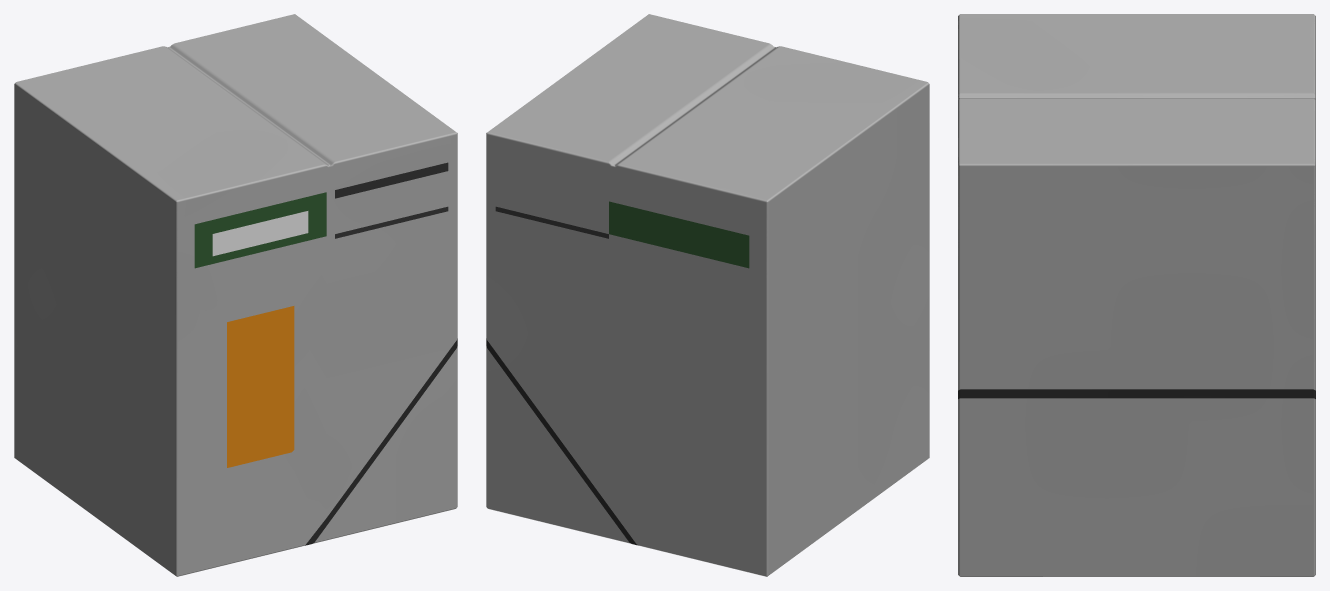
File: SM_Stores_Box_B_D.fbx
3 renders of one model, left to right at view 1: azimuth 30°, elevation 25°; view 2: azimuth 150°, elevation 25°; view 3: azimuth 270°, elevation 25°, orthographic. The views are drawn at different scales.
Visible parts, largest first — view 1: SM_Stores_Box_B_D; view 2: SM_Stores_Box_B_D; view 3: SM_Stores_Box_B_D.
Boxes of the visible parts, x1=… form: SM_Stores_Box_B_D: x1=14, y1=14, x2=457, y2=576; SM_Stores_Box_B_D: x1=486, y1=14, x2=929, y2=576; SM_Stores_Box_B_D: x1=958, y1=14, x2=1315, y2=576.
Size of the model in its own units: 41.48 by 52.89 by 41.48.
